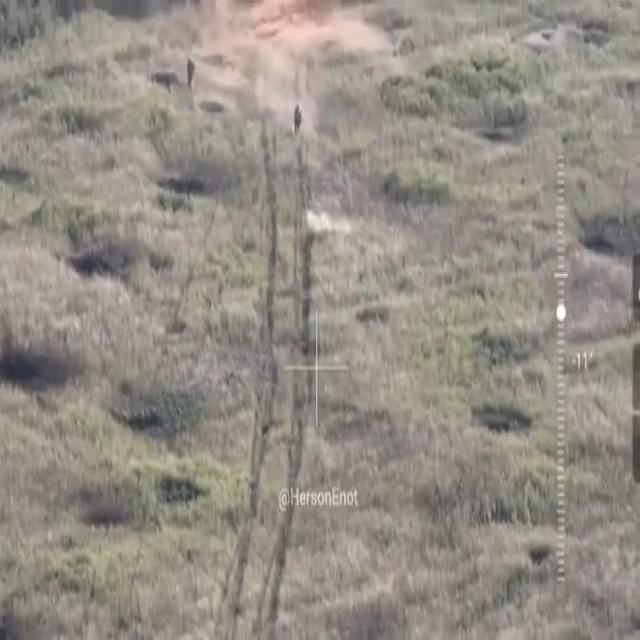MIL_Pax: (294, 104, 302, 134), (188, 59, 195, 89)
